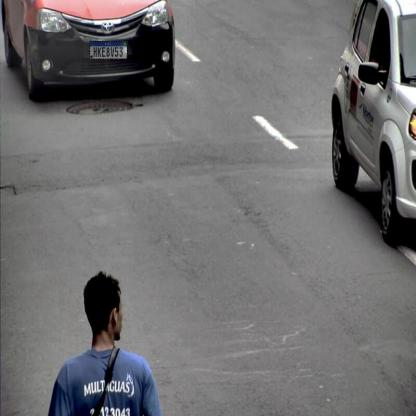PlacaM: (90, 41, 128, 60)
